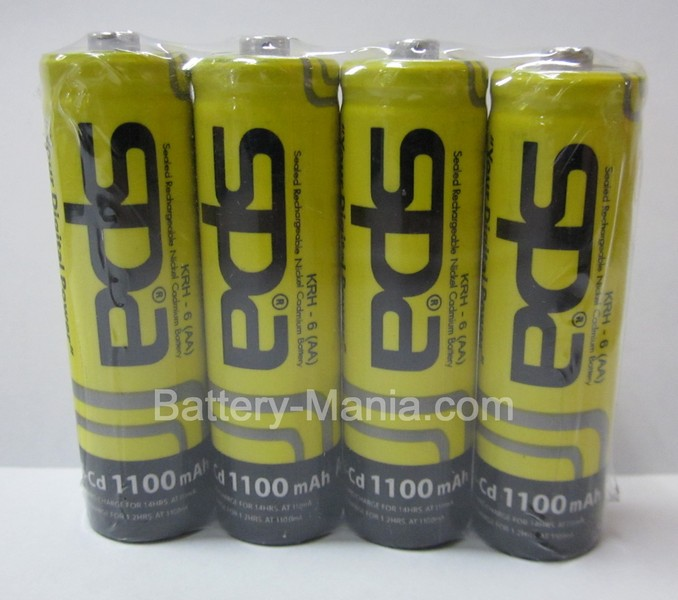Battery: (472, 42, 653, 568), (36, 27, 215, 550), (336, 33, 490, 557), (189, 28, 341, 549)
